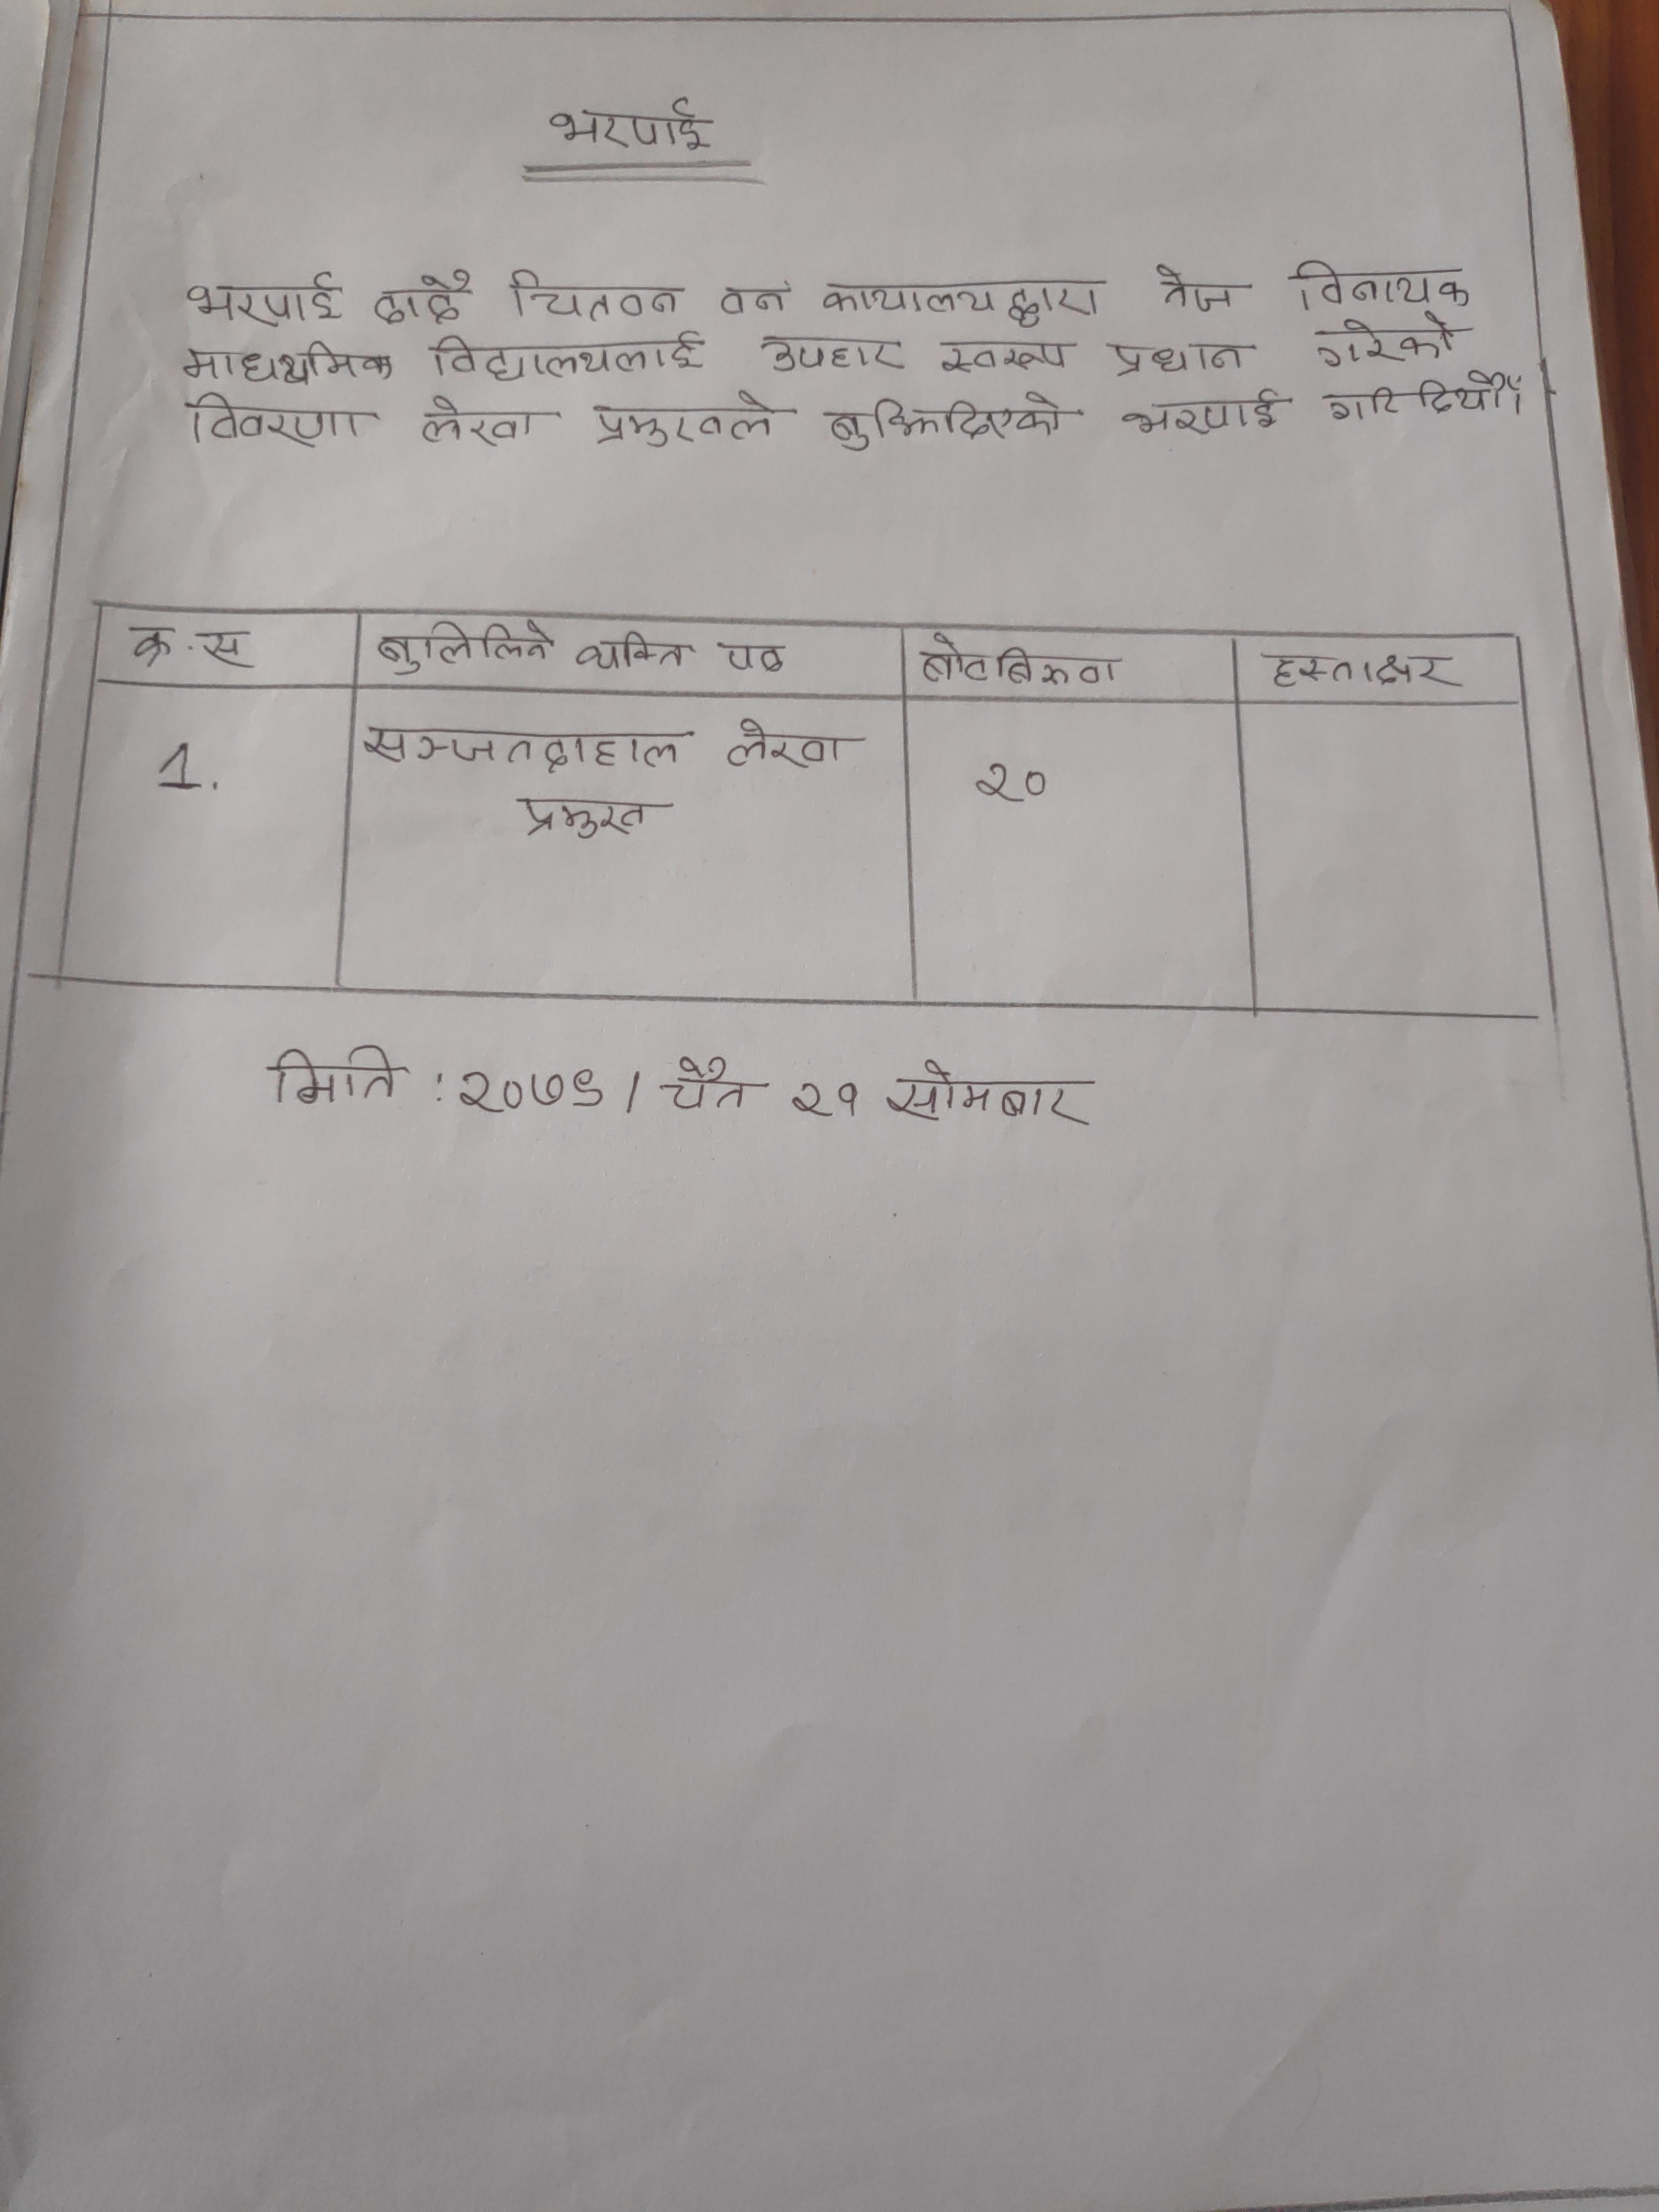text: (356, 719, 685, 773), (817, 387, 1072, 455), (882, 1059, 1108, 1129), (817, 273, 1108, 326), (425, 333, 709, 381), (1279, 251, 1476, 317), (584, 392, 786, 453), (174, 334, 399, 387), (918, 632, 1127, 688), (183, 392, 376, 451), (376, 615, 554, 678), (502, 263, 683, 324), (538, 98, 725, 155), (1321, 374, 1518, 428), (263, 1040, 408, 1113), (181, 270, 347, 331), (1258, 650, 1460, 698), (1112, 387, 1288, 439), (1310, 312, 1466, 371), (751, 322, 904, 374), (455, 1064, 610, 1115), (1108, 326, 1253, 380), (514, 794, 666, 845), (657, 1054, 760, 1125), (415, 390, 549, 444), (725, 719, 852, 775), (120, 620, 251, 674), (934, 329, 1073, 378), (369, 270, 477, 329), (969, 758, 1054, 822), (575, 632, 697, 676), (789, 1071, 864, 1139), (1150, 268, 1241, 320), (711, 282, 800, 326), (721, 641, 796, 686)
